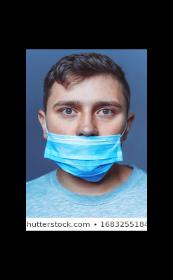mask_weared_incorrect: (48, 96, 127, 173)
